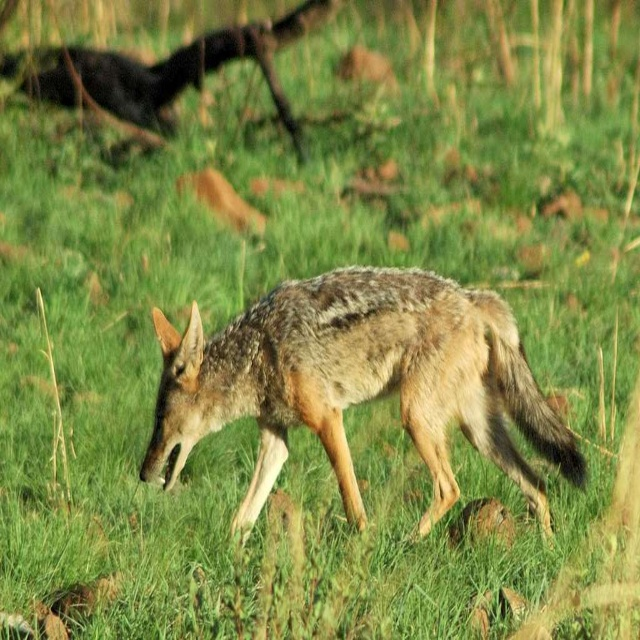Fox: (139, 264, 590, 562)
